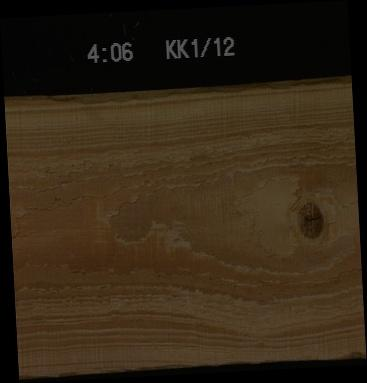sound_knot: (295, 199, 326, 240)
wave: (4, 81, 351, 100)
